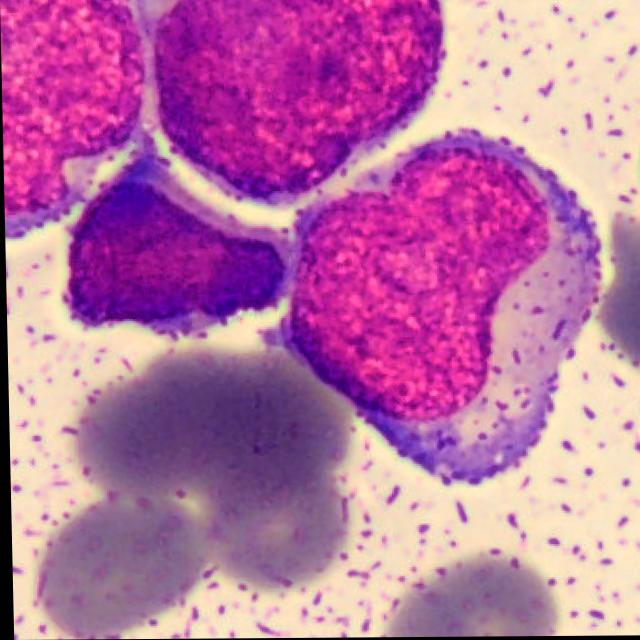Mieloblasto: (283, 142, 603, 487), (149, 0, 447, 215), (61, 148, 288, 337), (0, 0, 142, 239)
